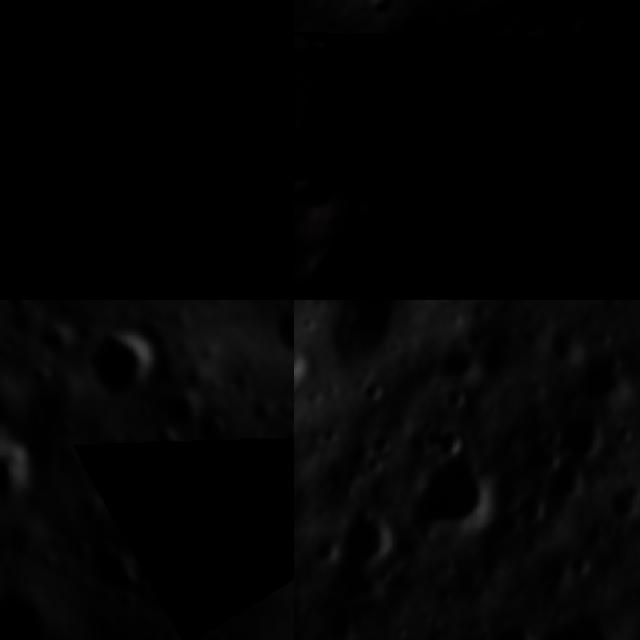crater: (317, 124, 392, 200), (412, 459, 488, 533), (94, 322, 164, 401), (294, 145, 343, 216), (575, 354, 630, 403), (539, 610, 625, 640), (342, 514, 382, 568), (546, 464, 590, 504), (0, 440, 25, 509), (245, 134, 282, 178), (554, 422, 599, 456), (479, 619, 546, 640), (252, 247, 289, 284), (294, 342, 316, 395), (220, 218, 248, 255), (612, 487, 640, 524), (610, 419, 640, 453), (223, 62, 259, 90), (274, 28, 294, 76), (0, 160, 25, 196), (54, 33, 90, 58), (516, 493, 540, 530), (254, 106, 284, 133), (217, 20, 239, 56), (255, 183, 278, 216), (282, 302, 294, 365), (148, 28, 176, 52), (441, 390, 467, 413), (362, 455, 386, 479), (572, 555, 591, 583), (314, 541, 336, 565), (376, 564, 398, 588), (90, 188, 111, 212), (317, 428, 339, 450), (367, 434, 393, 452), (154, 211, 176, 232), (360, 383, 382, 404), (0, 269, 12, 300), (390, 620, 407, 640), (31, 0, 56, 13), (284, 186, 294, 213), (20, 288, 41, 300), (0, 0, 21, 10), (62, 0, 88, 7)
